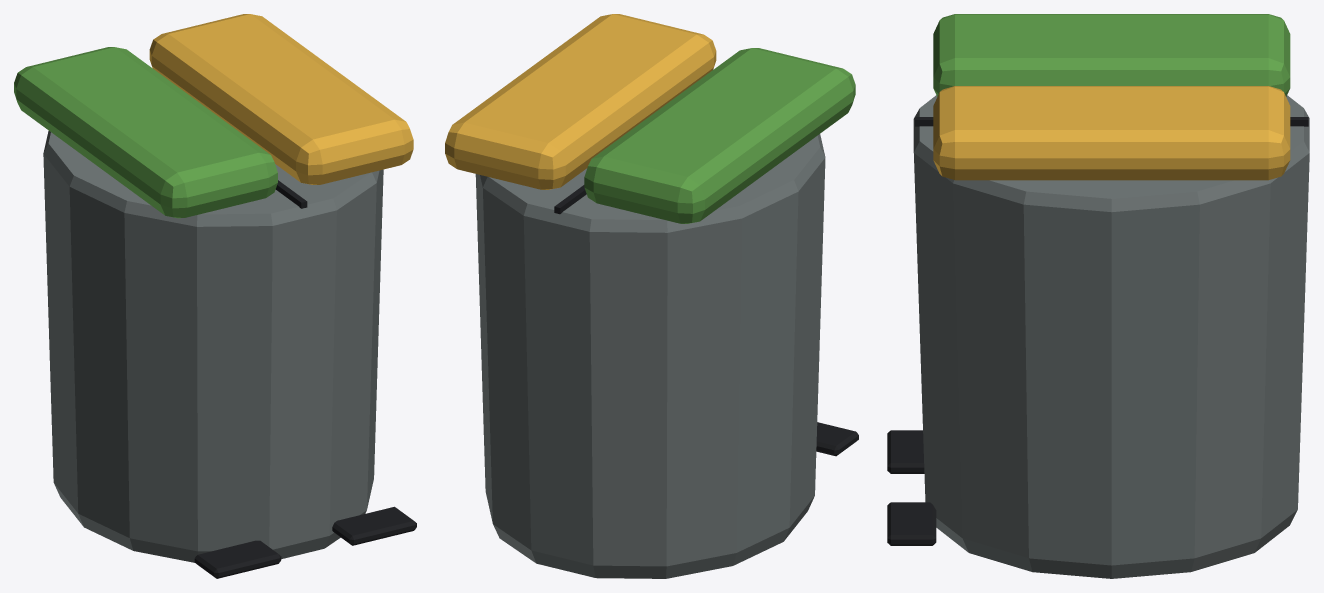
File: trash_can.glb
The picture shows the model from 3 angles, left to right: view 1: azimuth 30°, elevation 25°; view 2: azimuth 150°, elevation 25°; view 3: azimuth 270°, elevation 25°; orthographic projection. The views are drawn at different scales.
Visible parts, largest first — view 1: trash_can_Body; view 2: trash_can_Body; view 3: trash_can_Body.
Part boxes in pixels (box(x1,y1,x2,y2)): trash_can_Body: box(14, 14, 416, 578); trash_can_Body: box(445, 14, 858, 578); trash_can_Body: box(887, 14, 1309, 578).
Size of the model in its own units: 0.6 by 0.8 by 0.7.
